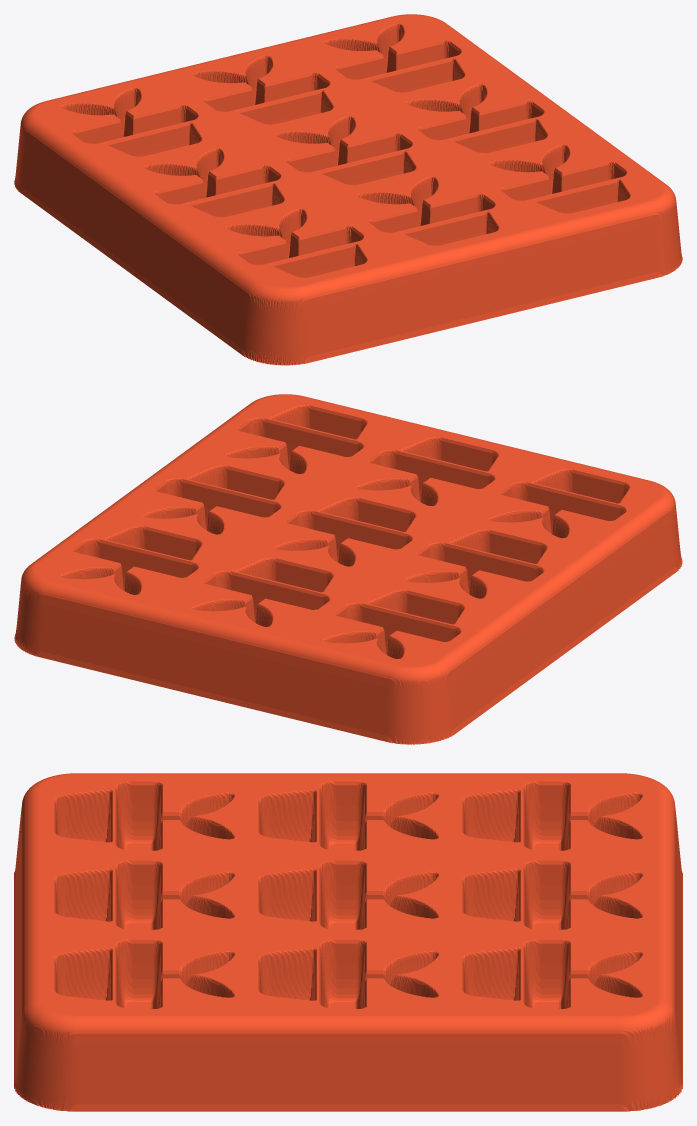
The model's file is mold.glb.
3 views of the same model, one above another, from view 1: azimuth 30°, elevation 25°; view 2: azimuth 150°, elevation 25°; view 3: azimuth 270°, elevation 25° (orthographic). The views are drawn at different scales.
Parts seen in each view (by area): view 1: geometry_0; view 2: geometry_0; view 3: geometry_0.
Boxes of the visible parts, x1,y1,x2,y2 form: geometry_0: [14, 14, 682, 365]; geometry_0: [14, 394, 682, 744]; geometry_0: [14, 773, 682, 1111].
Size of the model in its own units: 0.0892 by 0.0136 by 0.0964.
